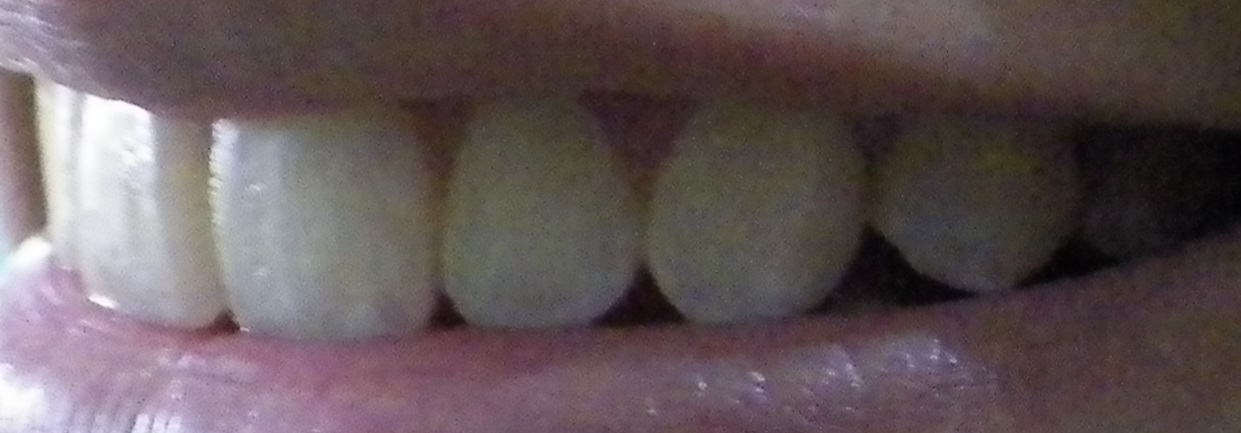boca: (40, 80, 1189, 340)
